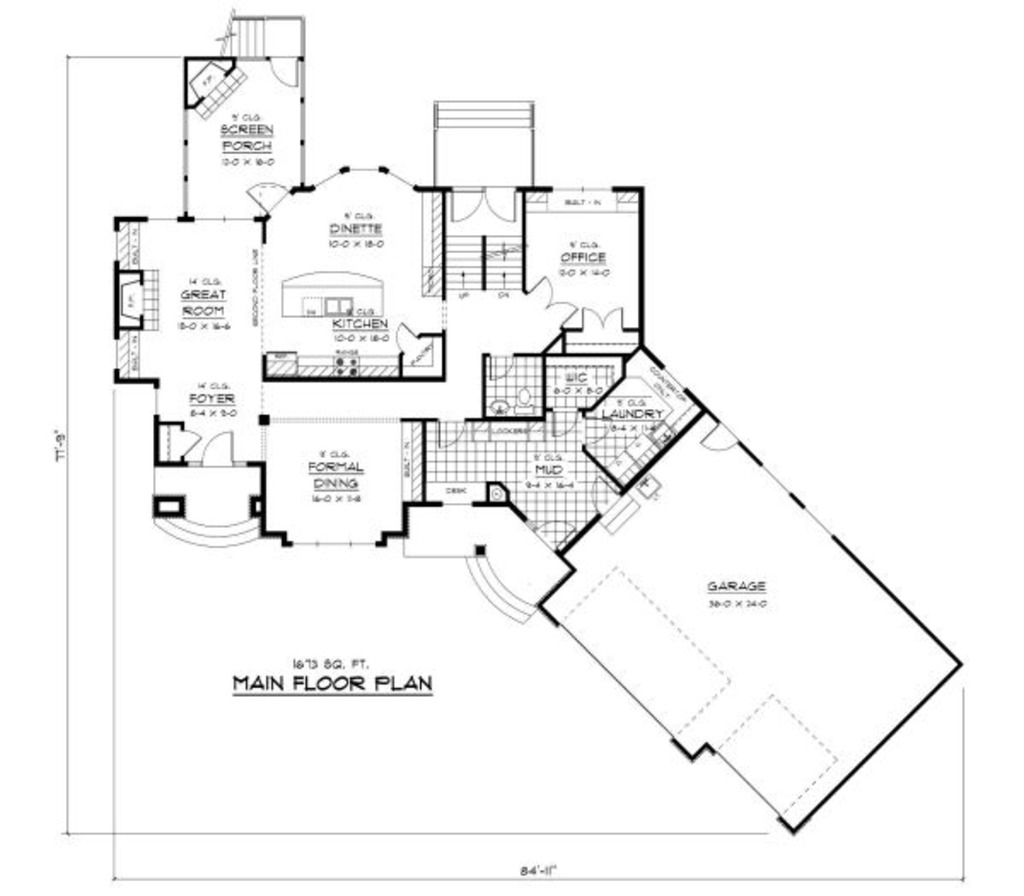door: (443, 187, 517, 221), (530, 273, 574, 326), (241, 177, 293, 213), (576, 302, 632, 335), (202, 427, 235, 467), (700, 424, 737, 454), (268, 59, 302, 88)
kitchen_bar: (279, 271, 395, 321)
stairs: (430, 100, 547, 162), (445, 229, 529, 299), (153, 511, 264, 553), (214, 9, 308, 54)
windows: (314, 155, 413, 197), (276, 536, 383, 554), (549, 179, 613, 197)
